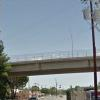Bridge: (9, 47, 99, 84)
